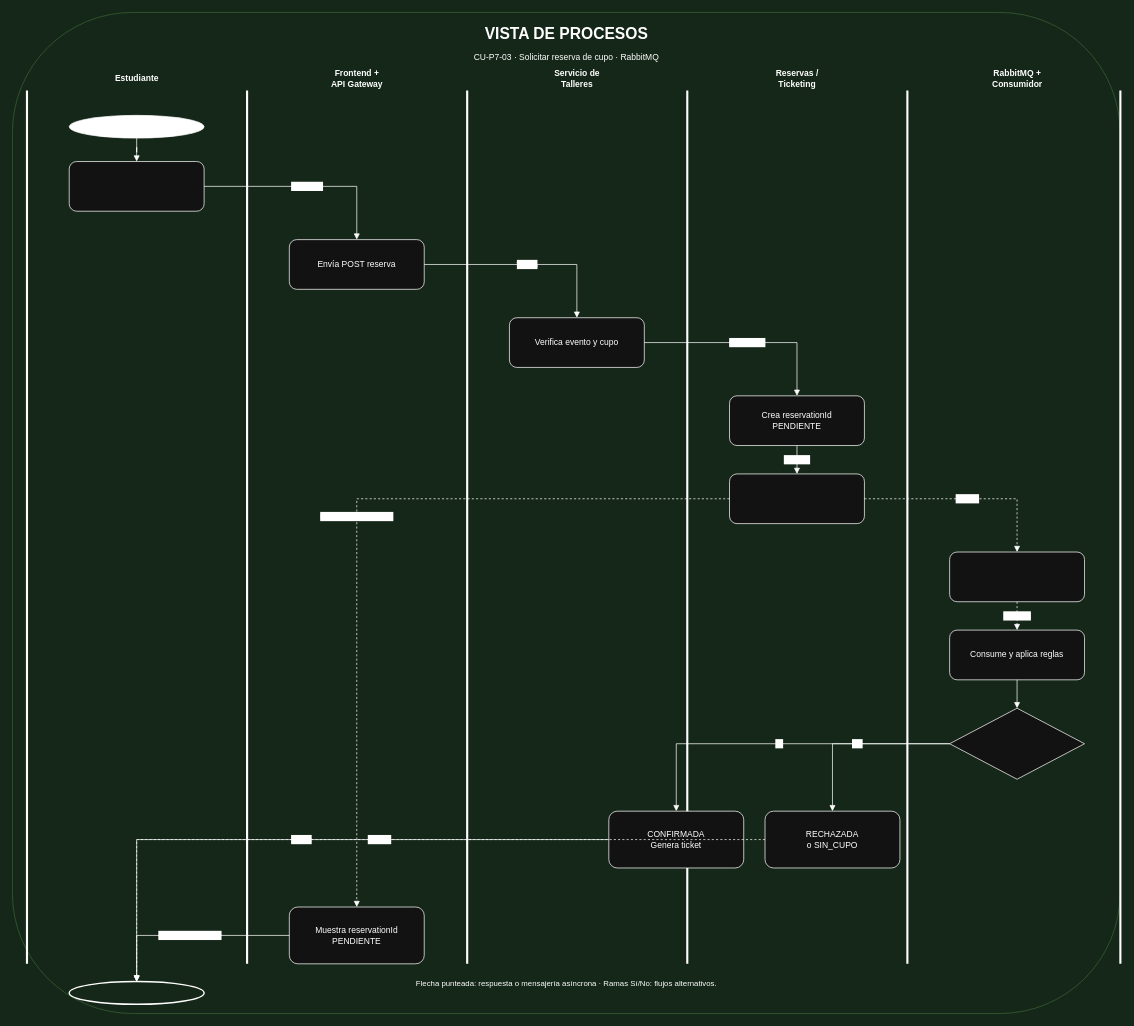
This 1134x1026 diagram has some shape labels left out. The centre of each missing label's shape, as x and y in pixels:
"Entrega mensaje" goes at pixel 1017 576.
"Publica reserva_solicitada" goes at pixel 796 498.
"Selecciona reservar" goes at pixel 136 186.
"¿Cupo y reglas válidas?" goes at pixel 1017 743.
